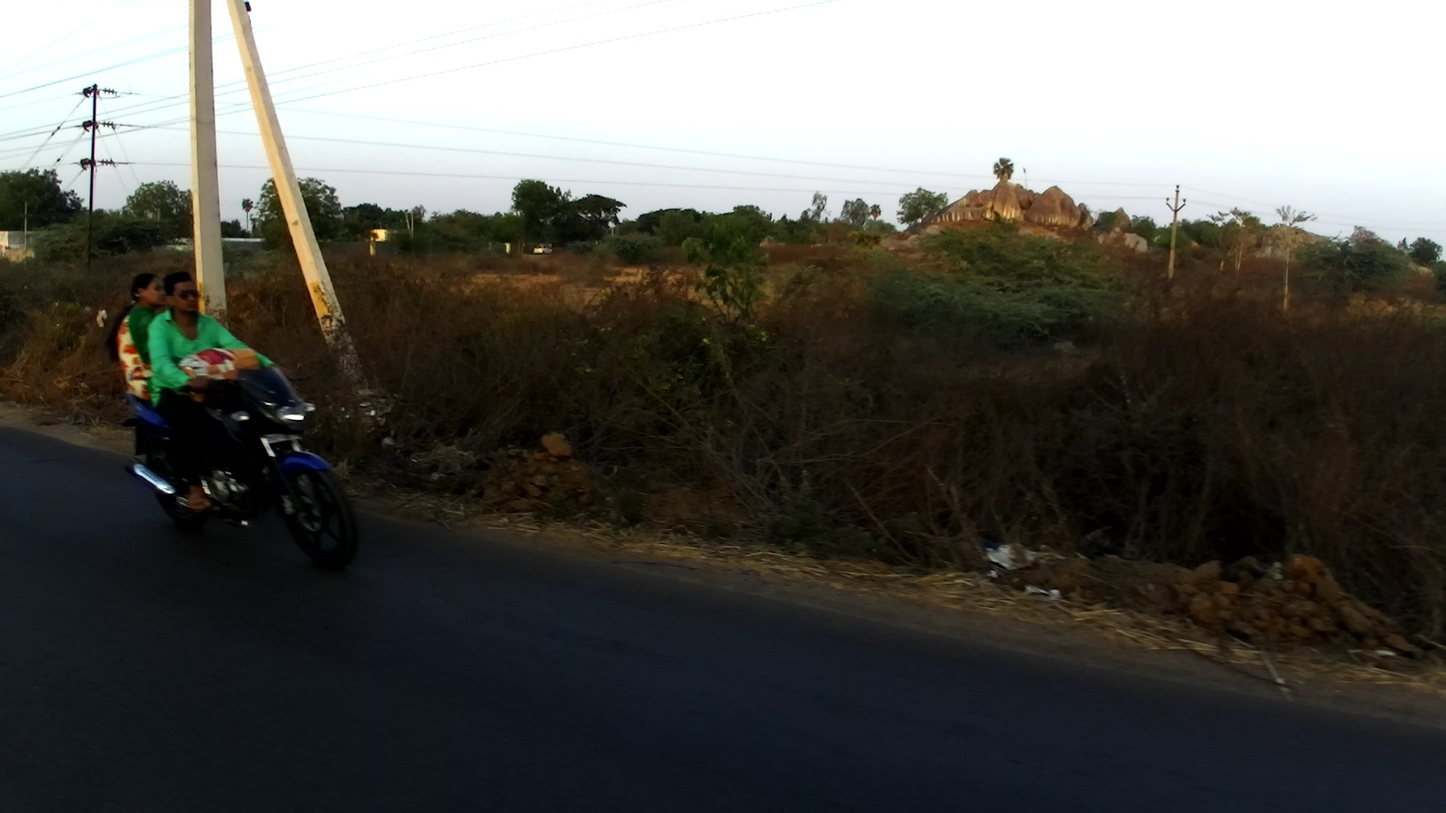motorcycle: (120, 345, 360, 573)
rider: (149, 263, 276, 509), (108, 268, 166, 403)
